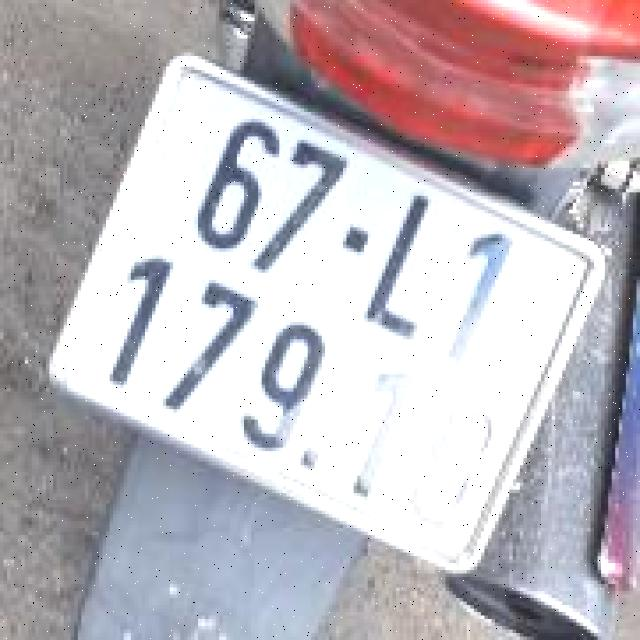0: (395, 379, 519, 539)
1: (332, 350, 443, 508), (90, 239, 196, 403), (430, 215, 536, 375)
6: (186, 107, 300, 263)
7: (144, 263, 268, 436), (244, 121, 359, 289)
9: (231, 306, 348, 471)
L: (348, 177, 477, 357)
